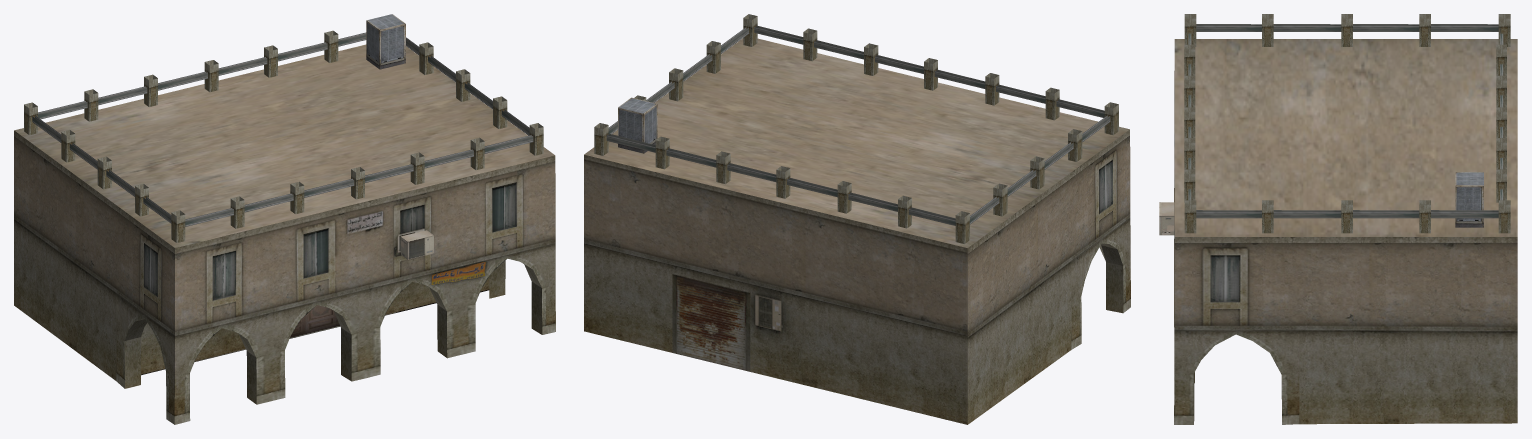
File: building07.fbx
3 renders of one model, left to right at view 1: azimuth 30°, elevation 25°; view 2: azimuth 150°, elevation 25°; view 3: azimuth 270°, elevation 25°, orthographic. The views are drawn at different scales.
Parts seen in each view (by area): view 1: polySurface12; view 2: polySurface12; view 3: polySurface12.
Part boxes in pixels (x1,y1,x2,y2): polySurface12: [14, 14, 555, 424]; polySurface12: [584, 14, 1130, 424]; polySurface12: [1159, 14, 1517, 424].
Size of the model in its own units: 1217 by 657 by 928.
